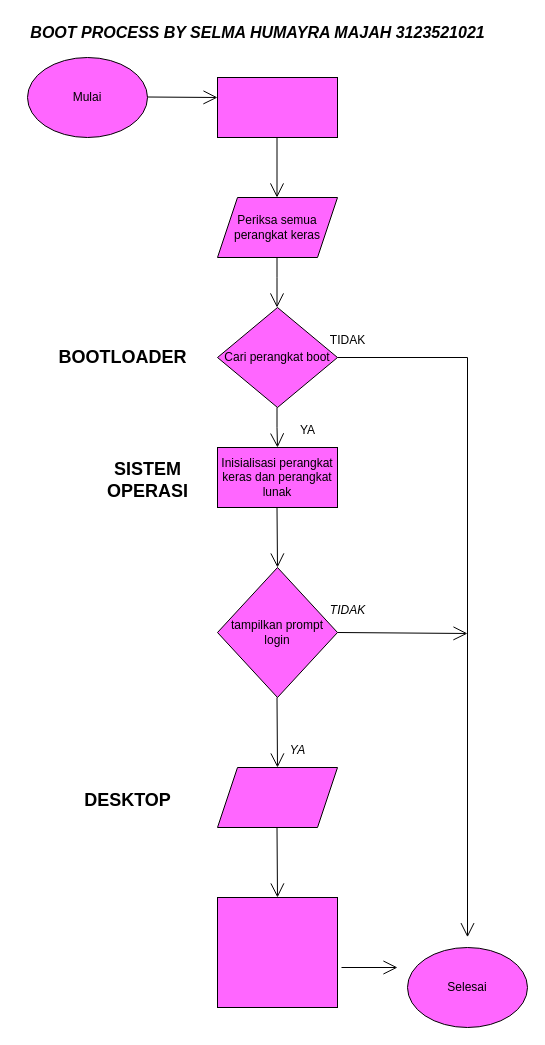
This 545x1045 diagram has some shape labels left out. Here are the shapes that lost their labels. From the top down, the centre of each, then its label:
point 277,107: POWER ON POST (POWER ON SELF TEST)
point 277,797: Tampilkan Deskop
point 277,952: Pengguna dapat menjalankan program, membuka file dan mengelolah komputer
